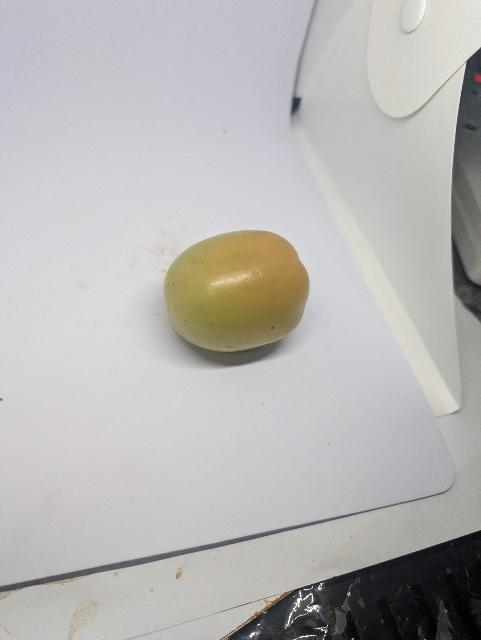breaker: (153, 224, 318, 358)
